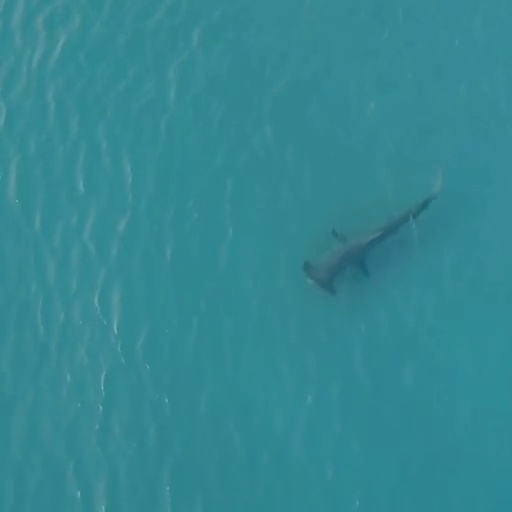shark: (301, 161, 447, 299)
